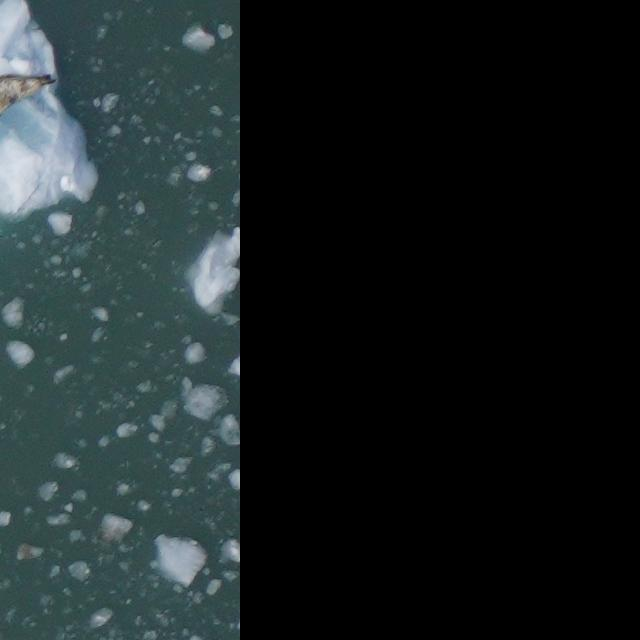seal: (0, 69, 58, 121)
